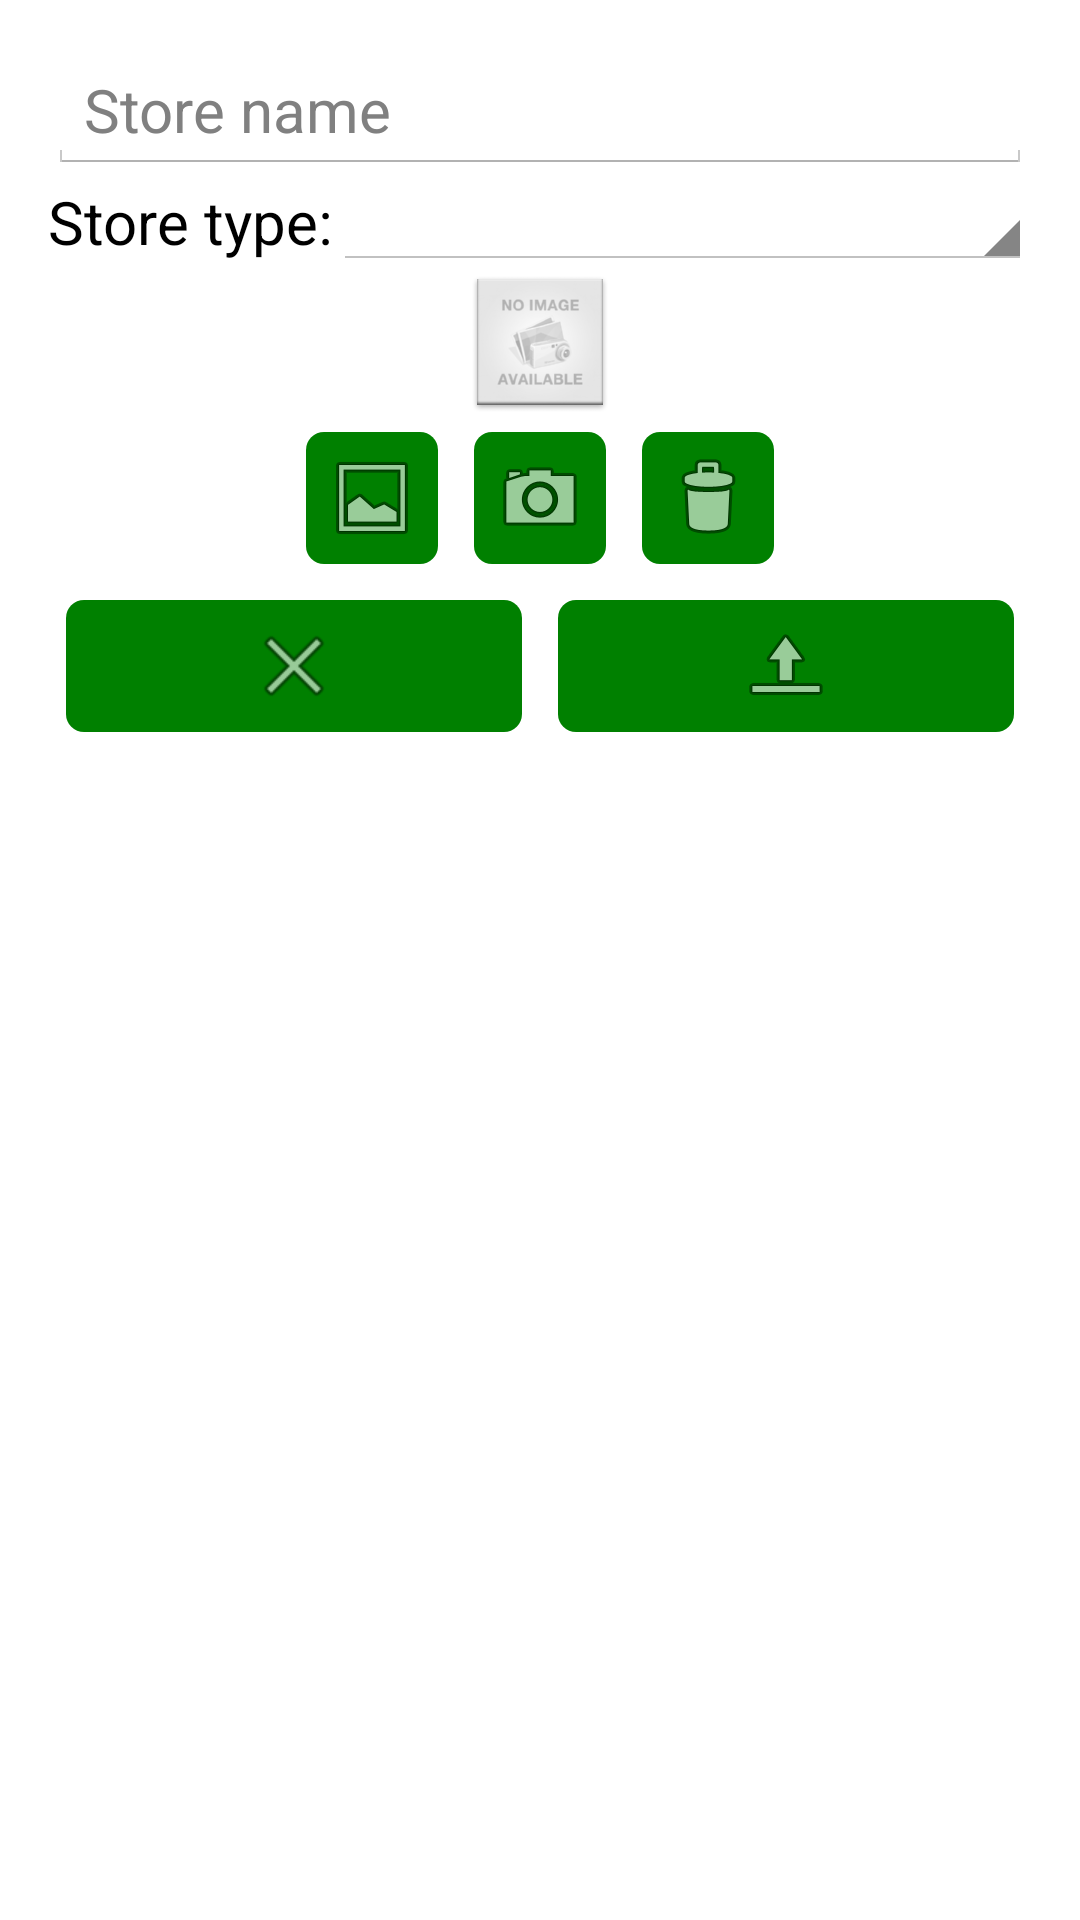

Icons on this 1080w x 1920h Android screen, each with the point to tap as [x,y]:
camera: [540,498]
delete: [708,498]
gallery: [372,498]
